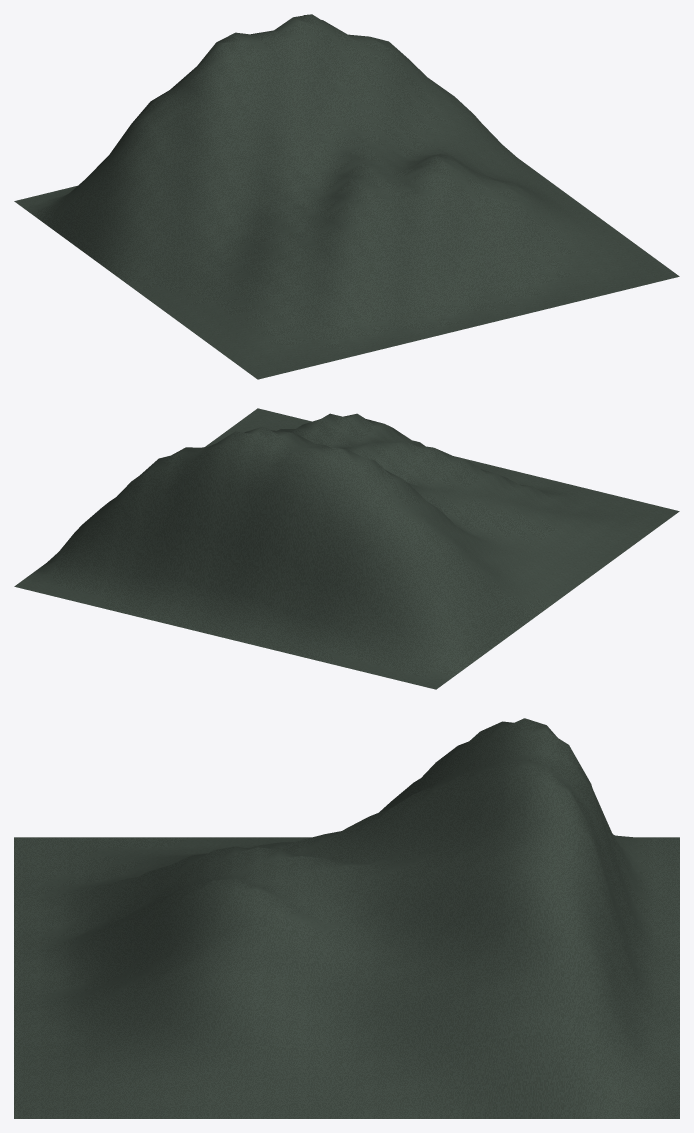
Rendered from ridge_a.glb.
The picture shows the model from 3 angles, top to bottom: view 1: azimuth 30°, elevation 25°; view 2: azimuth 150°, elevation 25°; view 3: azimuth 270°, elevation 25°; orthographic projection. The views are drawn at different scales.
Parts seen in each view (by area): view 1: ridge_a; view 2: ridge_a; view 3: ridge_a.
Boxes of the visible parts, x1,y1,x2,y2 form: ridge_a: (14,14,679,379); ridge_a: (14,408,679,689); ridge_a: (14,718,679,1118).
Size of the model in its own units: 2 by 0.7506 by 2.
1 material, 1 textured.
